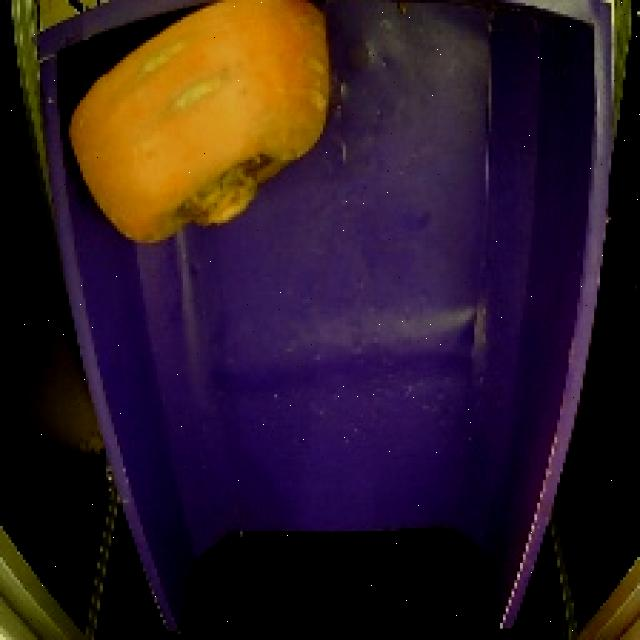carrots: (61, 0, 338, 258)
